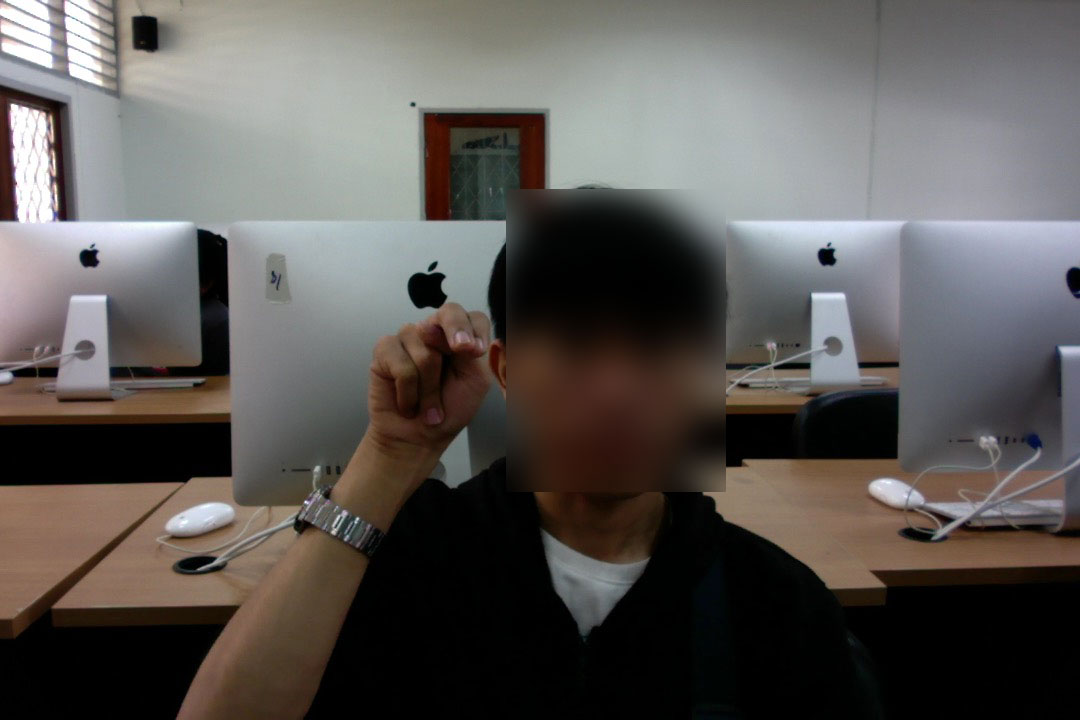nor: (360, 295, 495, 469)
